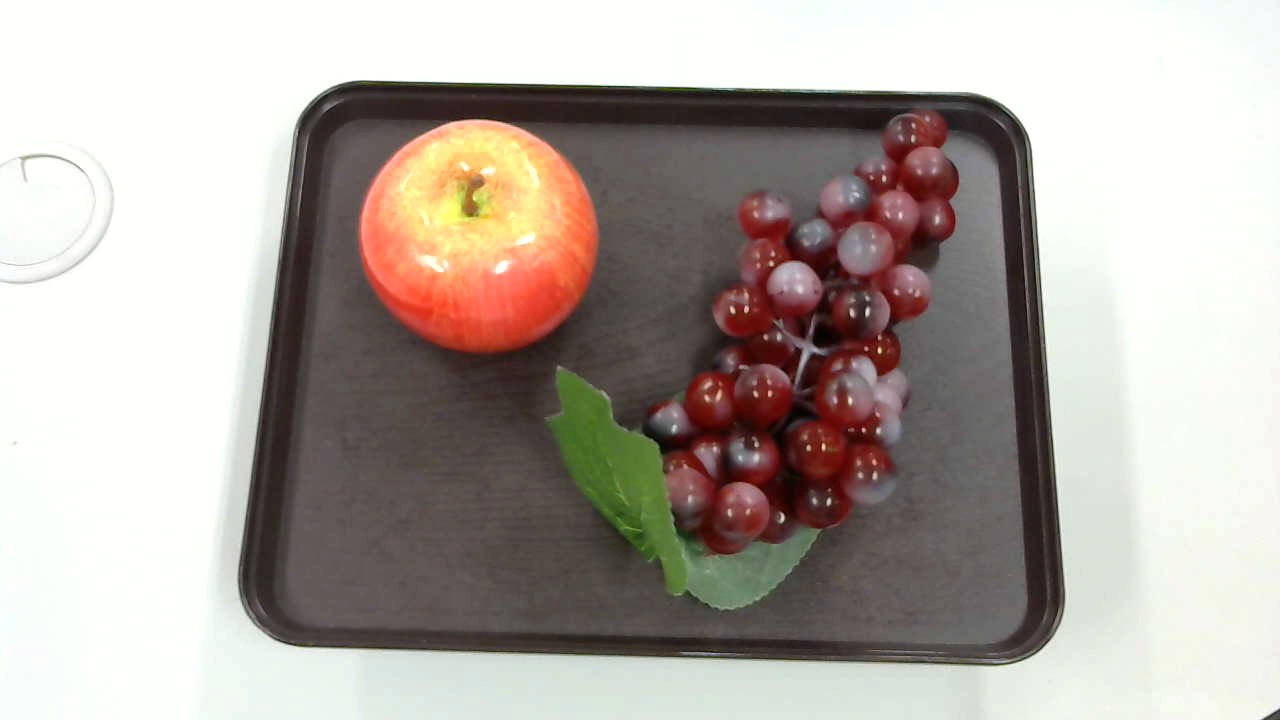grape: (554, 100, 968, 610)
red apple: (361, 119, 603, 361)
